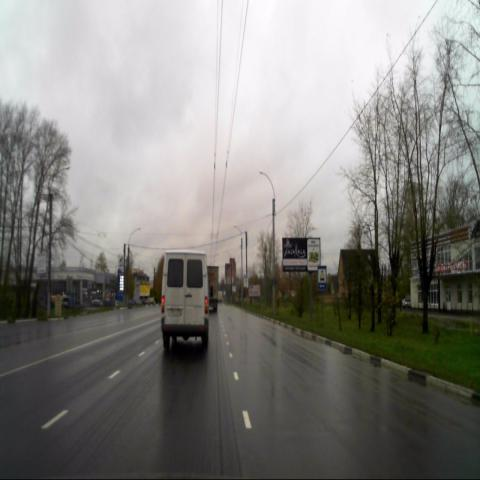7_5: (317, 265, 328, 291)
